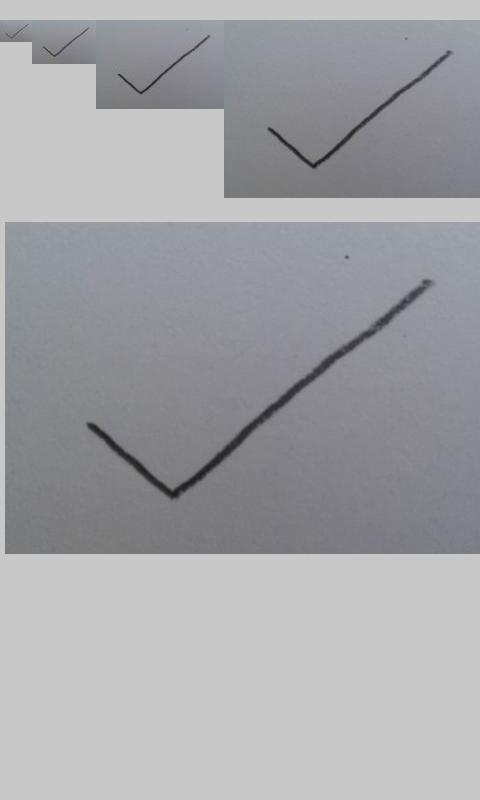check_box: (84, 281, 430, 503), (266, 50, 450, 169), (118, 35, 210, 94), (43, 27, 88, 57), (5, 24, 28, 39)
